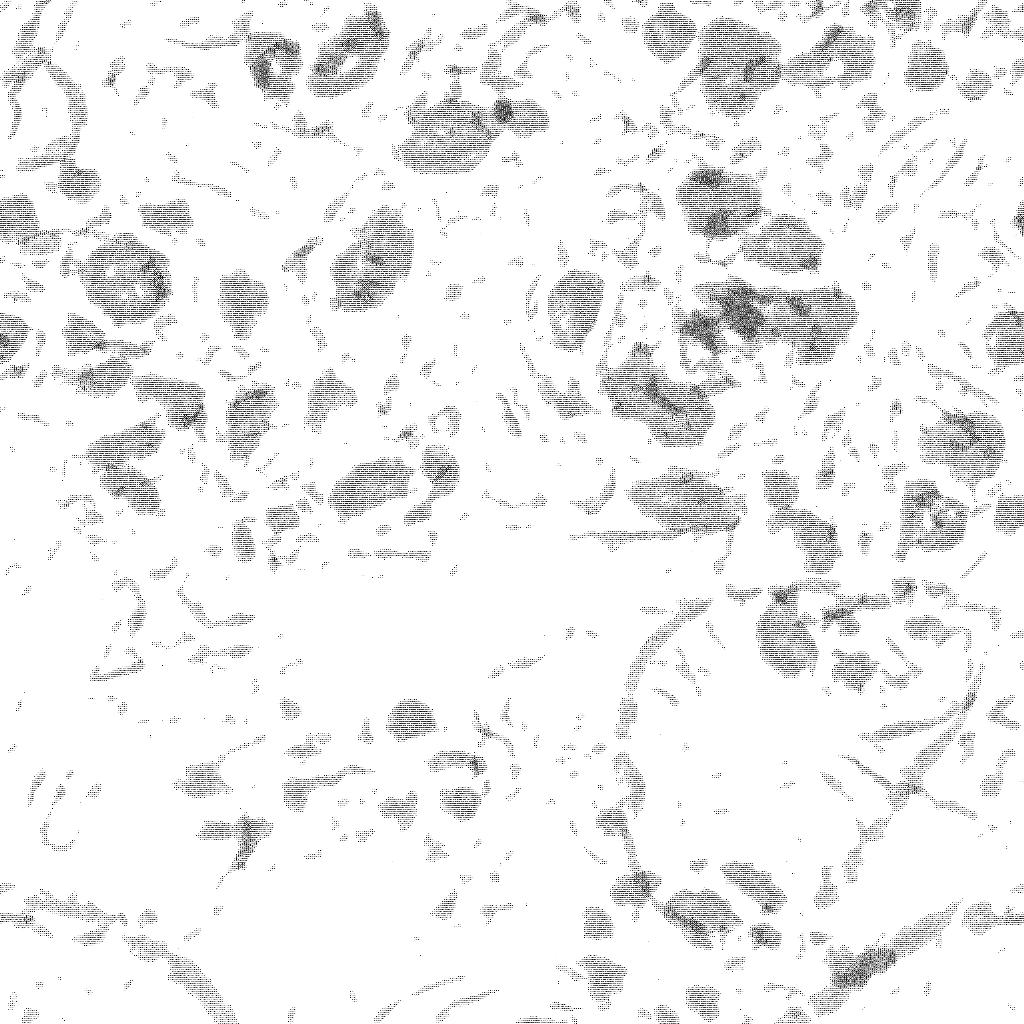axone: (689, 273, 865, 375), (590, 344, 718, 453), (389, 89, 514, 172), (65, 231, 177, 323), (694, 9, 785, 121), (327, 204, 417, 317), (627, 465, 752, 538), (302, 3, 393, 101), (769, 20, 882, 94), (914, 407, 1013, 486), (670, 162, 769, 240), (727, 210, 833, 277), (750, 586, 822, 682), (322, 452, 418, 523), (126, 364, 216, 438), (891, 477, 974, 557), (67, 412, 175, 473), (762, 504, 849, 579), (78, 458, 178, 521), (237, 22, 304, 116), (541, 260, 607, 353), (661, 886, 739, 958), (297, 362, 365, 443), (219, 376, 284, 460), (213, 265, 274, 347), (718, 854, 794, 913), (639, 1, 701, 71), (572, 950, 632, 1014), (57, 354, 135, 403), (417, 436, 473, 504), (131, 186, 203, 238), (607, 867, 675, 917), (899, 36, 952, 100), (490, 92, 553, 145), (54, 306, 115, 360), (823, 642, 882, 696), (383, 694, 445, 743), (54, 154, 106, 203), (1, 188, 46, 244), (685, 977, 728, 1024), (431, 785, 487, 820)
